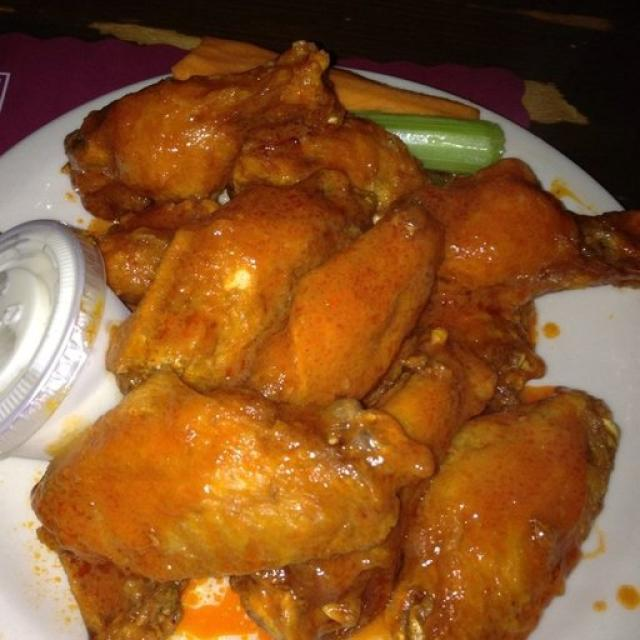Frango: (27, 390, 405, 637), (136, 178, 426, 418), (432, 386, 622, 640)
